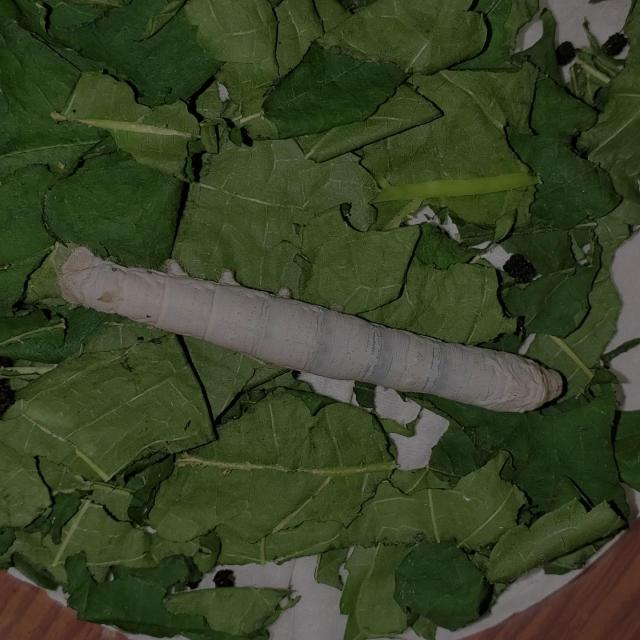Healthy: (43, 240, 567, 422)
